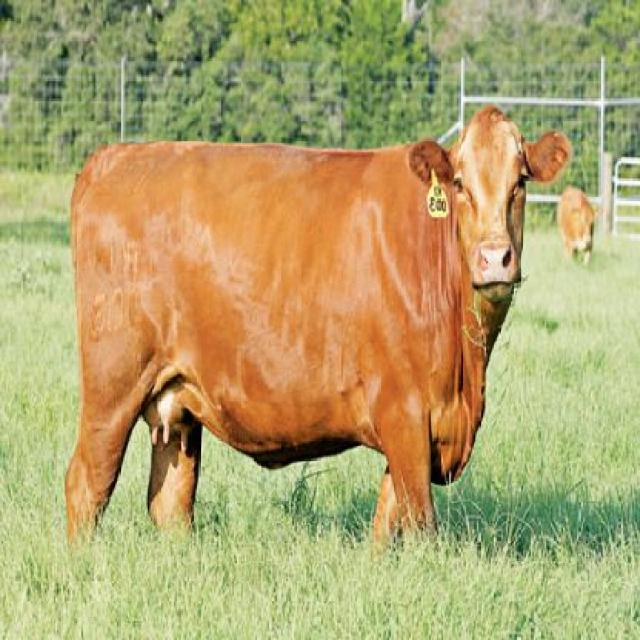Cow: (69, 103, 569, 559)
